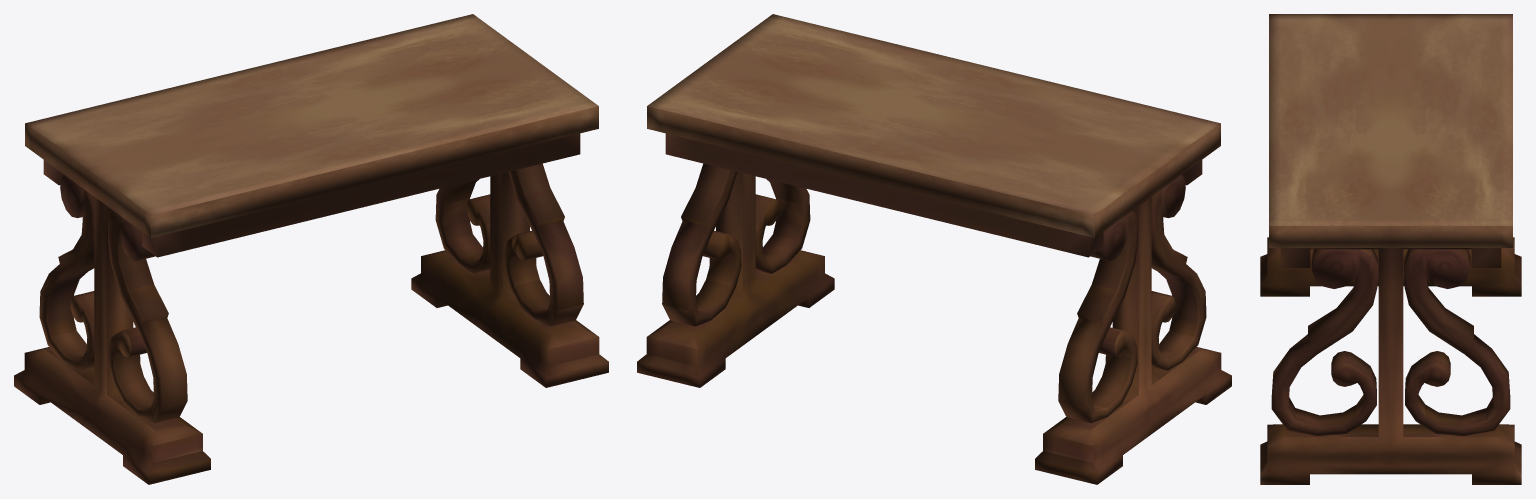
Rendered from DESK.fbx.
3 renders of one model, left to right at view 1: azimuth 30°, elevation 25°; view 2: azimuth 150°, elevation 25°; view 3: azimuth 270°, elevation 25°, orthographic. The views are drawn at different scales.
Visible parts, largest first — view 1: Box001_1; view 2: Box001_1; view 3: Box001_1.
Part boxes in pixels (<box>): Box001_1: <box>14,14,608,484</box>; Box001_1: <box>637,14,1231,484</box>; Box001_1: <box>1260,14,1521,484</box>.
Bounding box in the file's own units: 37.56 × 20.64 × 19.05.
1 material, 1 textured.
